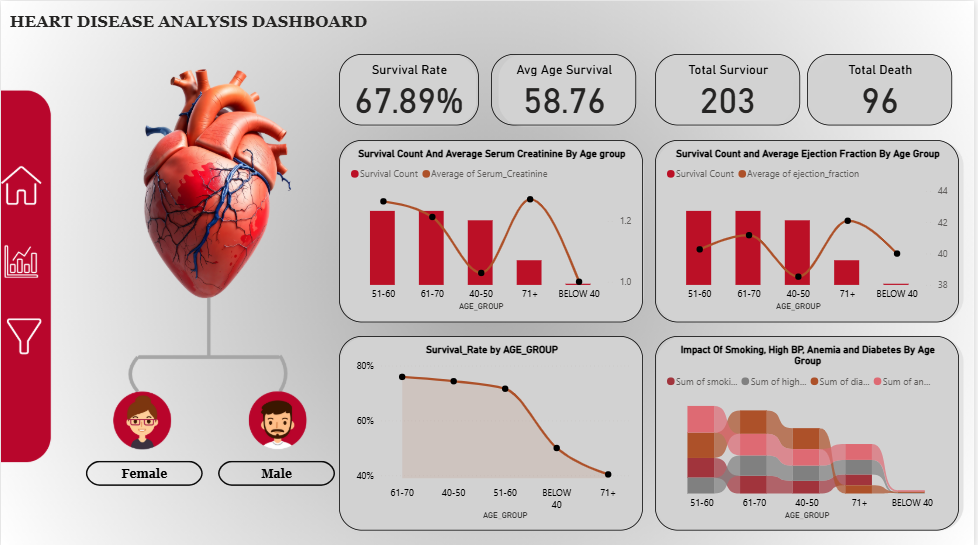

Layout of this report page (visuals, bound fields, positions):
{"tool":"powerbi","page":{"name":"Page 1","canvas":[1280,720],"ordinal":0},"visuals":[{"type":"lineStackedColumnComboChart","title":"Survival Count And Average Serum Creatinine By Age group","fields":{"Category":["heart_Disease_clinical_records_.AGE_GROUP"],"Y":["CountNonNull(heart_Disease_clinical_records_.DEATH_EVENT)"],"Y2":["Avg(heart_Disease_clinical_records_.serum_creatinine)"]},"box":[444.9,182.3,400.3,239.7],"z":0},{"type":"textbox","box":[6.4,8.9,489.6,39.5],"z":1000},{"type":"lineStackedColumnComboChart","title":"Survival Count and Average Ejection Fraction By Age Group","fields":{"Category":["heart_Disease_clinical_records_.AGE_GROUP"],"Y":["CountNonNull(heart_Disease_clinical_records_.DEATH_EVENT)"],"Y2":["Avg(heart_Disease_clinical_records_.ejection_fraction)"]},"box":[860.6,182.3,400.3,239.7],"z":2000},{"type":"lineChart","fields":{"Category":["heart_Disease_clinical_records_.AGE_GROUP"],"Y":["heart_Disease_clinical_records_.Survival_Rate"]},"box":[444.9,441.1,400.3,256.3],"z":3000},{"type":"ribbonChart","title":"Impact Of Smoking, High BP, Anemia and Diabetes By Age Group","fields":{"Category":["heart_Disease_clinical_records_.AGE_GROUP"],"Y":["Sum(heart_Disease_clinical_records_.smoking)","Sum(heart_Disease_clinical_records_.high_blood_pressure)","Sum(heart_Disease_clinical_records_.diabetes)","Sum(heart_Disease_clinical_records_.anaemia)"]},"box":[860.6,441.1,400.3,256.3],"z":4000},{"type":"card","title":"Survival Rate","fields":{"Values":["heart_Disease_clinical_records_.Survival_Rate"]},"box":[444.9,70.1,183.6,94.3],"z":5000},{"type":"card","title":"Avg Age Survival","fields":{"Values":["heart_Disease_clinical_records_.AVG_AGE_Survival"]},"box":[645.1,70.1,191.2,94.3],"z":6000},{"type":"card","title":"Total Surviour","fields":{"Values":["heart_Disease_clinical_records_.Total Surviour"]},"box":[860.6,70.1,191.2,94.3],"z":7000},{"type":"card","title":"Total Death","fields":{"Values":["heart_Disease_clinical_records_.Total Death"]},"box":[1060.7,70.1,191.2,94.3],"z":8000},{"type":"advancedSlicerVisual","fields":{"Values":["heart_Disease_clinical_records_.Gender"]},"box":[106.6,600,338.2,43.4],"z":8001}]}

Visuals, with their boxes in screenshot pixels (x1, y1, x2, y2), scaled from the page's 1280x720 canvas onto the 978x545 screenshot:
"Survival Count And Average Serum Creatinine By Age group" lineStackedColumnComboChart: (x1=340, y1=138, x2=646, y2=319)
textbox: (x1=5, y1=7, x2=379, y2=37)
"Survival Count and Average Ejection Fraction By Age Group" lineStackedColumnComboChart: (x1=658, y1=138, x2=963, y2=319)
lineChart - heart_Disease_clinical_records_.AGE_GROUP x heart_Disease_clinical_records_.Survival_Rate: (x1=340, y1=334, x2=646, y2=528)
"Impact Of Smoking, High BP, Anemia and Diabetes By Age Group" ribbonChart: (x1=658, y1=334, x2=963, y2=528)
"Survival Rate" card: (x1=340, y1=53, x2=480, y2=124)
"Avg Age Survival" card: (x1=493, y1=53, x2=639, y2=124)
"Total Surviour" card: (x1=658, y1=53, x2=804, y2=124)
"Total Death" card: (x1=810, y1=53, x2=957, y2=124)
advancedSlicerVisual - heart_Disease_clinical_records_.Gender: (x1=81, y1=454, x2=340, y2=487)
